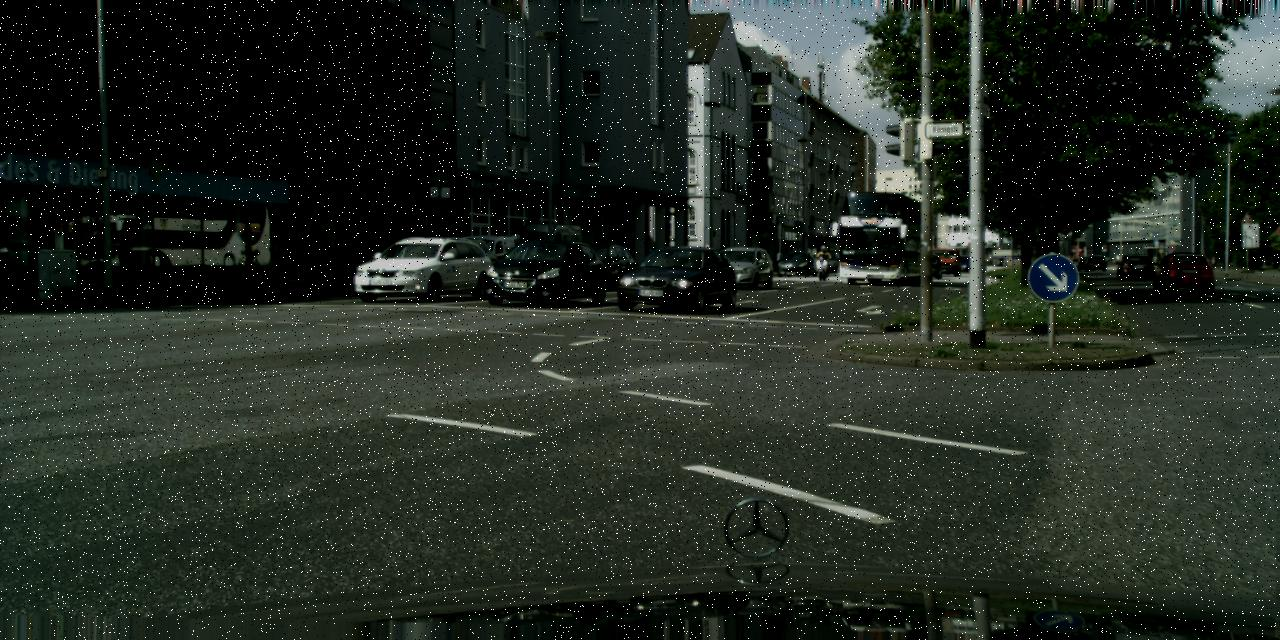ped: (817, 244, 829, 274), (1221, 250, 1230, 274), (1210, 255, 1216, 272)
